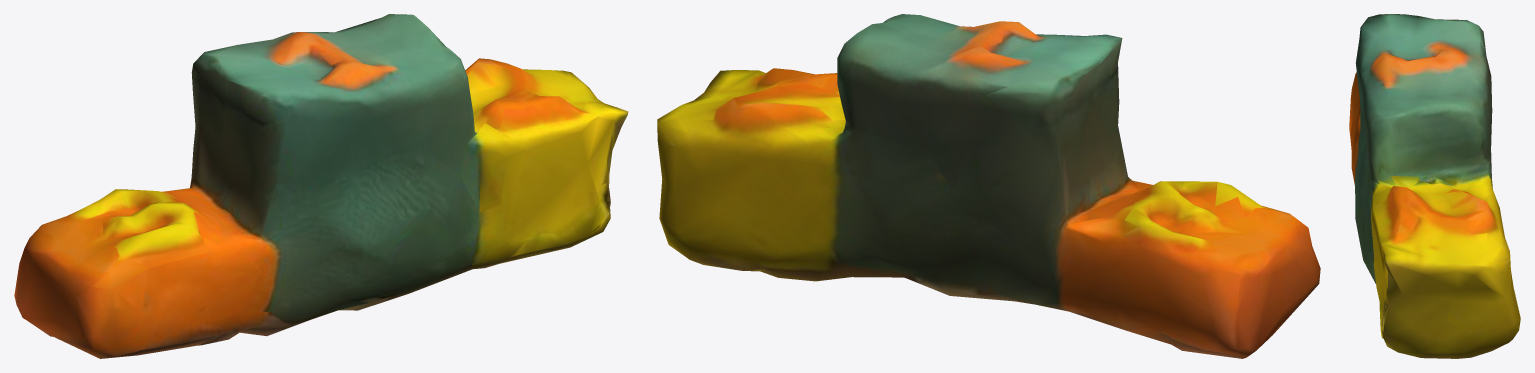
File: william-pedestal.glb
3 views of the same model, side by side, from view 1: azimuth 30°, elevation 25°; view 2: azimuth 150°, elevation 25°; view 3: azimuth 270°, elevation 25° (orthographic). The views are drawn at different scales.
Visible parts, largest first — view 1: Mesh_0; view 2: Mesh_0; view 3: Mesh_0.
Boxes of the visible parts, bbox=[...] form: Mesh_0: bbox=[14, 14, 628, 358]; Mesh_0: bbox=[657, 14, 1320, 358]; Mesh_0: bbox=[1349, 14, 1520, 358].
Size of the model in its own units: 0.7342 by 0.3253 by 0.2338.
Materials: 1 (1 with a texture image).
